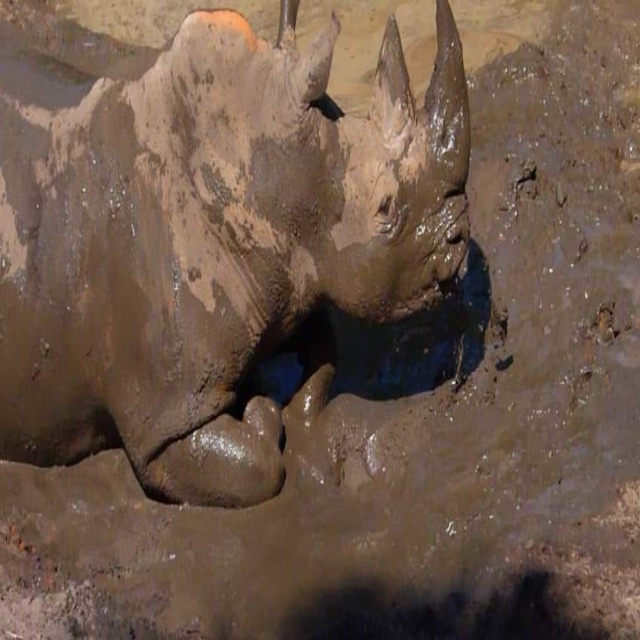Rhinoceros: (0, 0, 477, 504)
